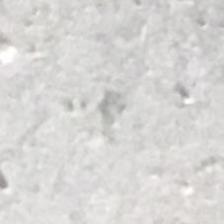Non_Crack: (14, 29, 205, 184)
